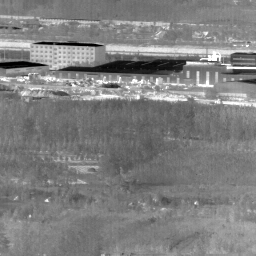aircraft: (86, 46, 88, 48)
